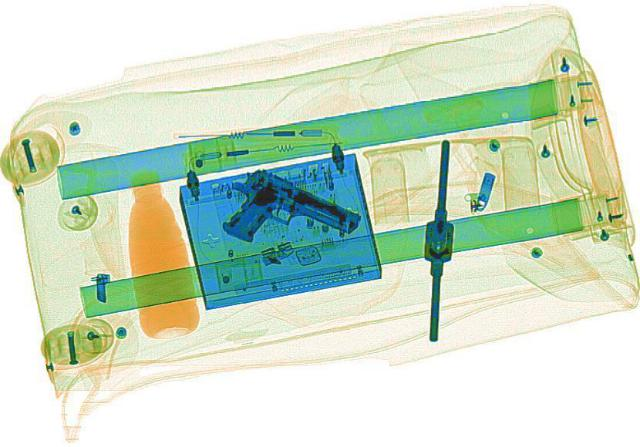Gun: (194, 164, 370, 267)
